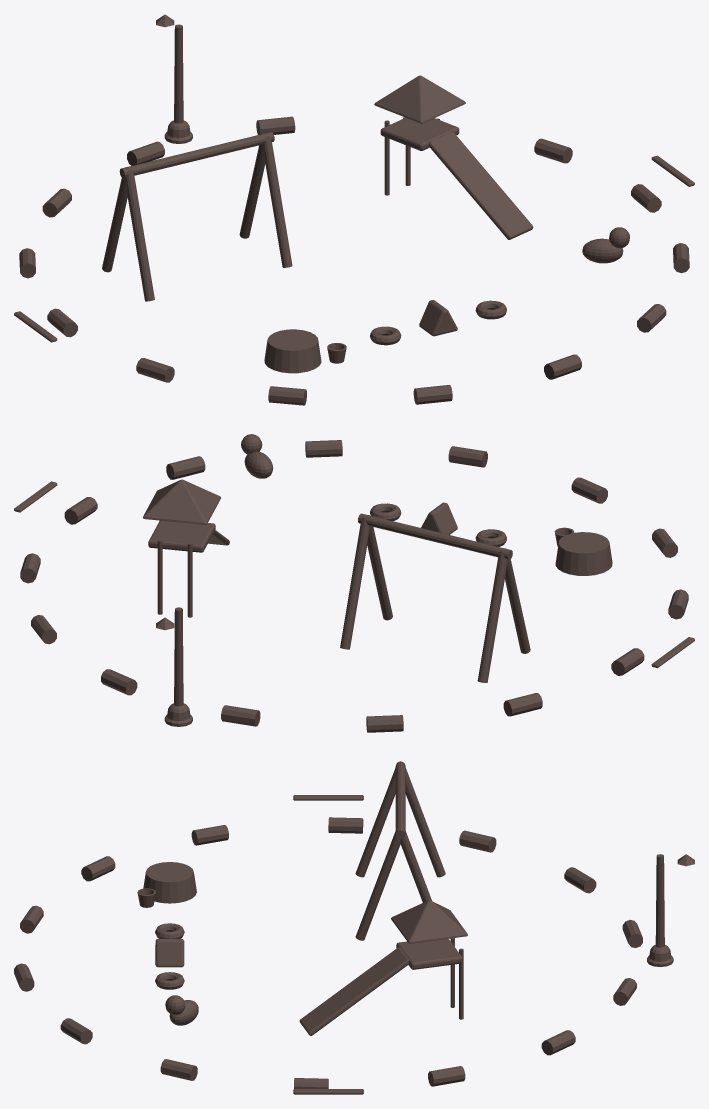
The model's file is playground.ol.glb.
3 views of the same model, one above another, from view 1: azimuth 30°, elevation 25°; view 2: azimuth 150°, elevation 25°; view 3: azimuth 270°, elevation 25° (orthographic). The views are drawn at different scales.
Visible parts, largest first — view 1: outline; view 2: outline; view 3: outline.
Part boxes in pixels (<box>): outline: <box>14,14,694,405</box>; outline: <box>14,434,694,732</box>; outline: <box>14,761,694,1094</box>.
Size of the model in its own units: 24.37 by 4.49 by 23.6.
